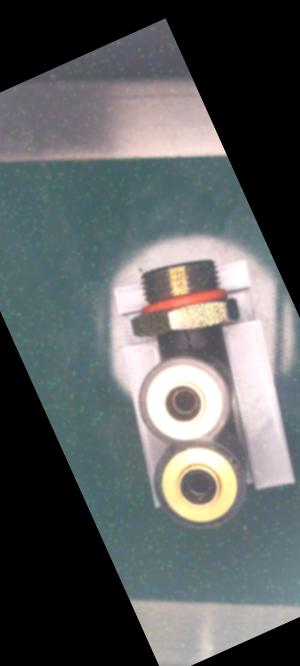craze: (172, 323, 199, 353)
